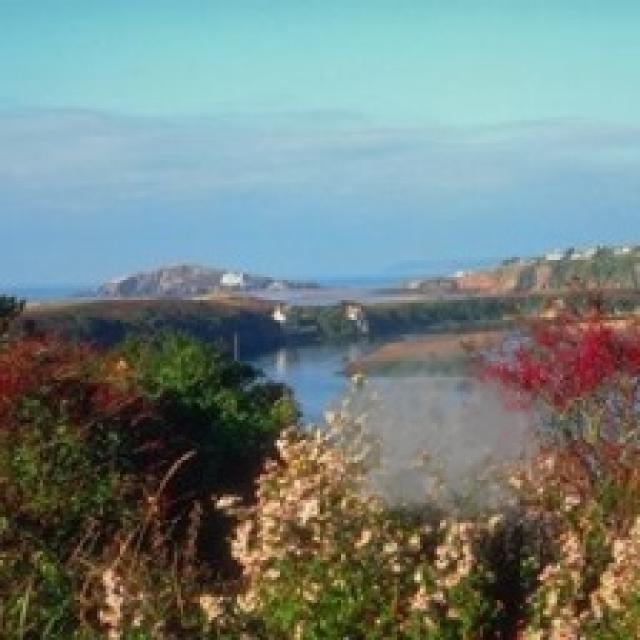smoke: (320, 343, 571, 548)
